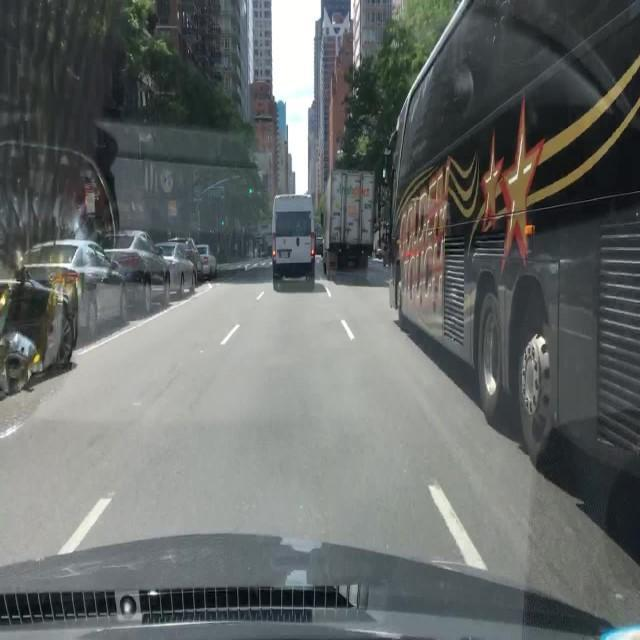normal: (383, 6, 640, 464), (255, 143, 376, 297), (22, 237, 115, 284), (103, 250, 171, 288), (157, 238, 220, 279)
